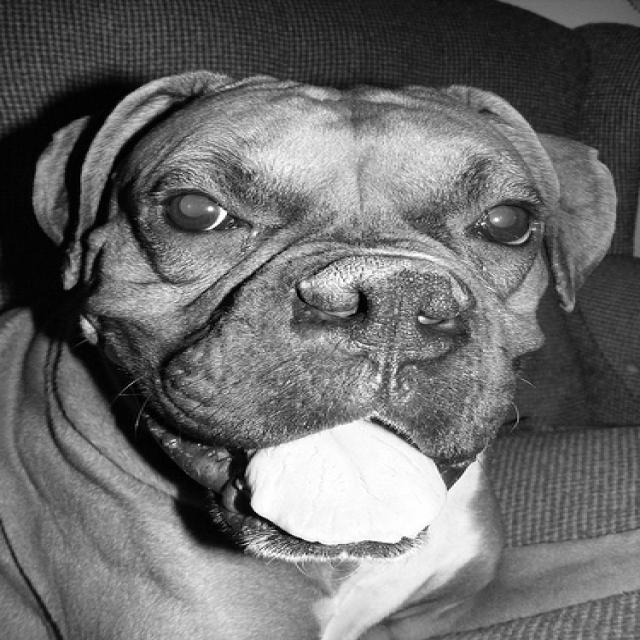dog-boxer: (2, 64, 637, 637)
